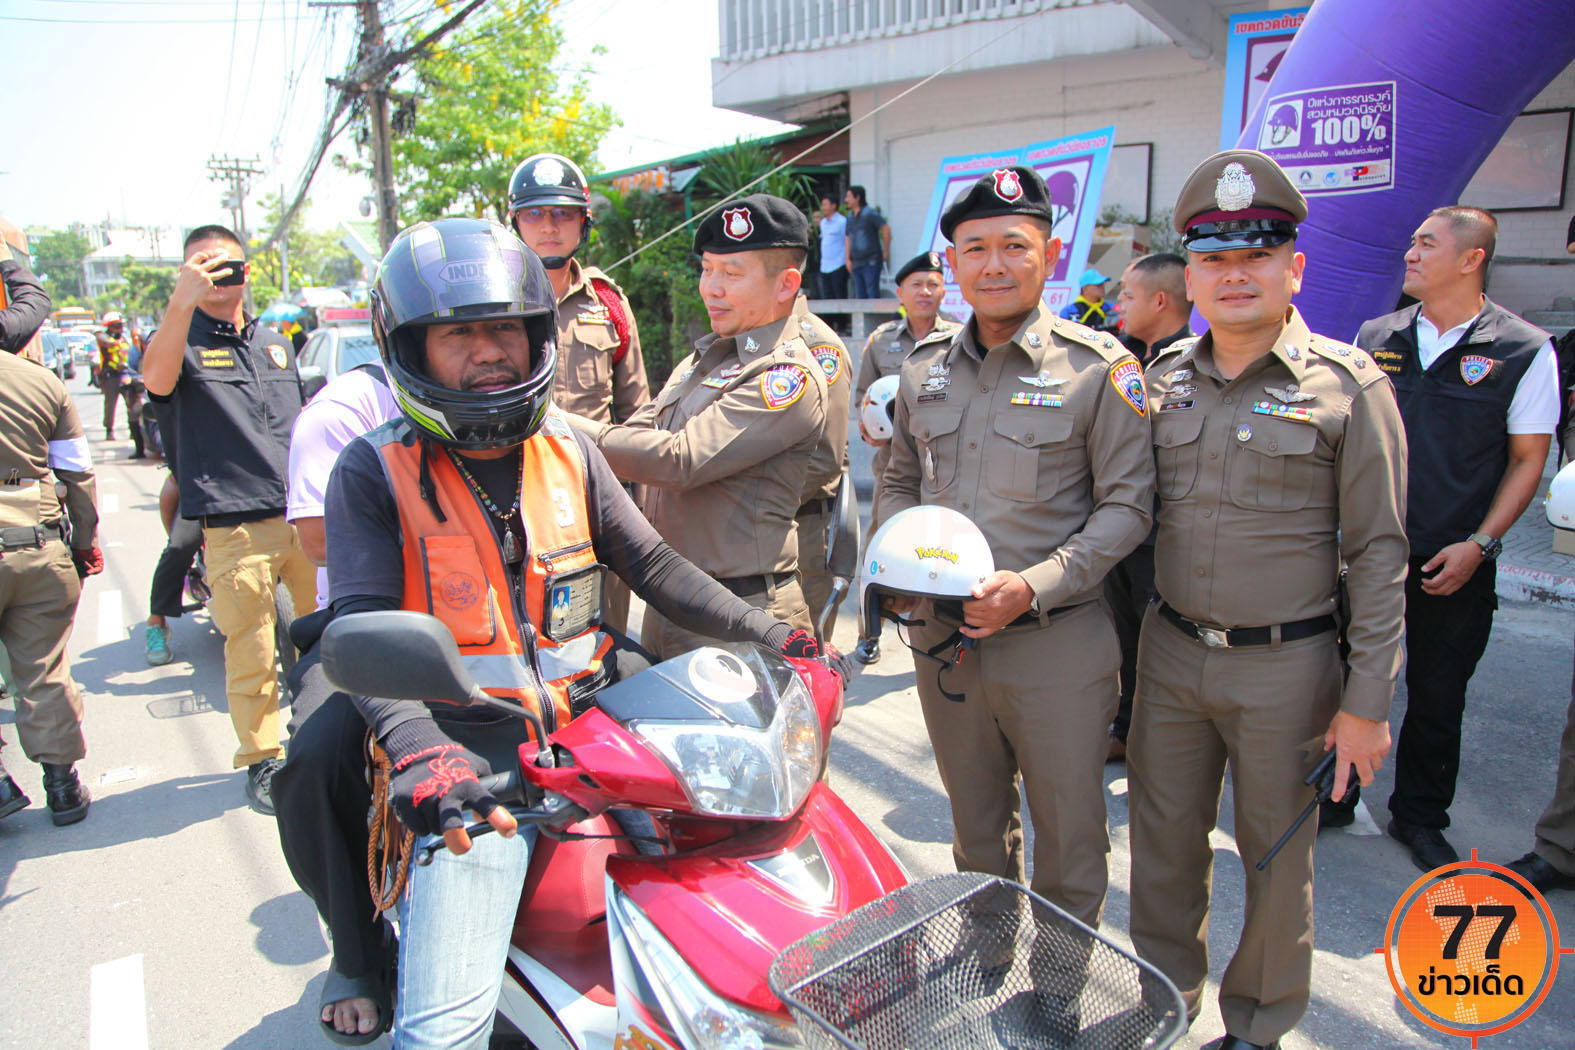Helmet: (360, 207, 557, 464), (483, 150, 615, 267), (260, 300, 312, 337), (101, 311, 124, 345)
